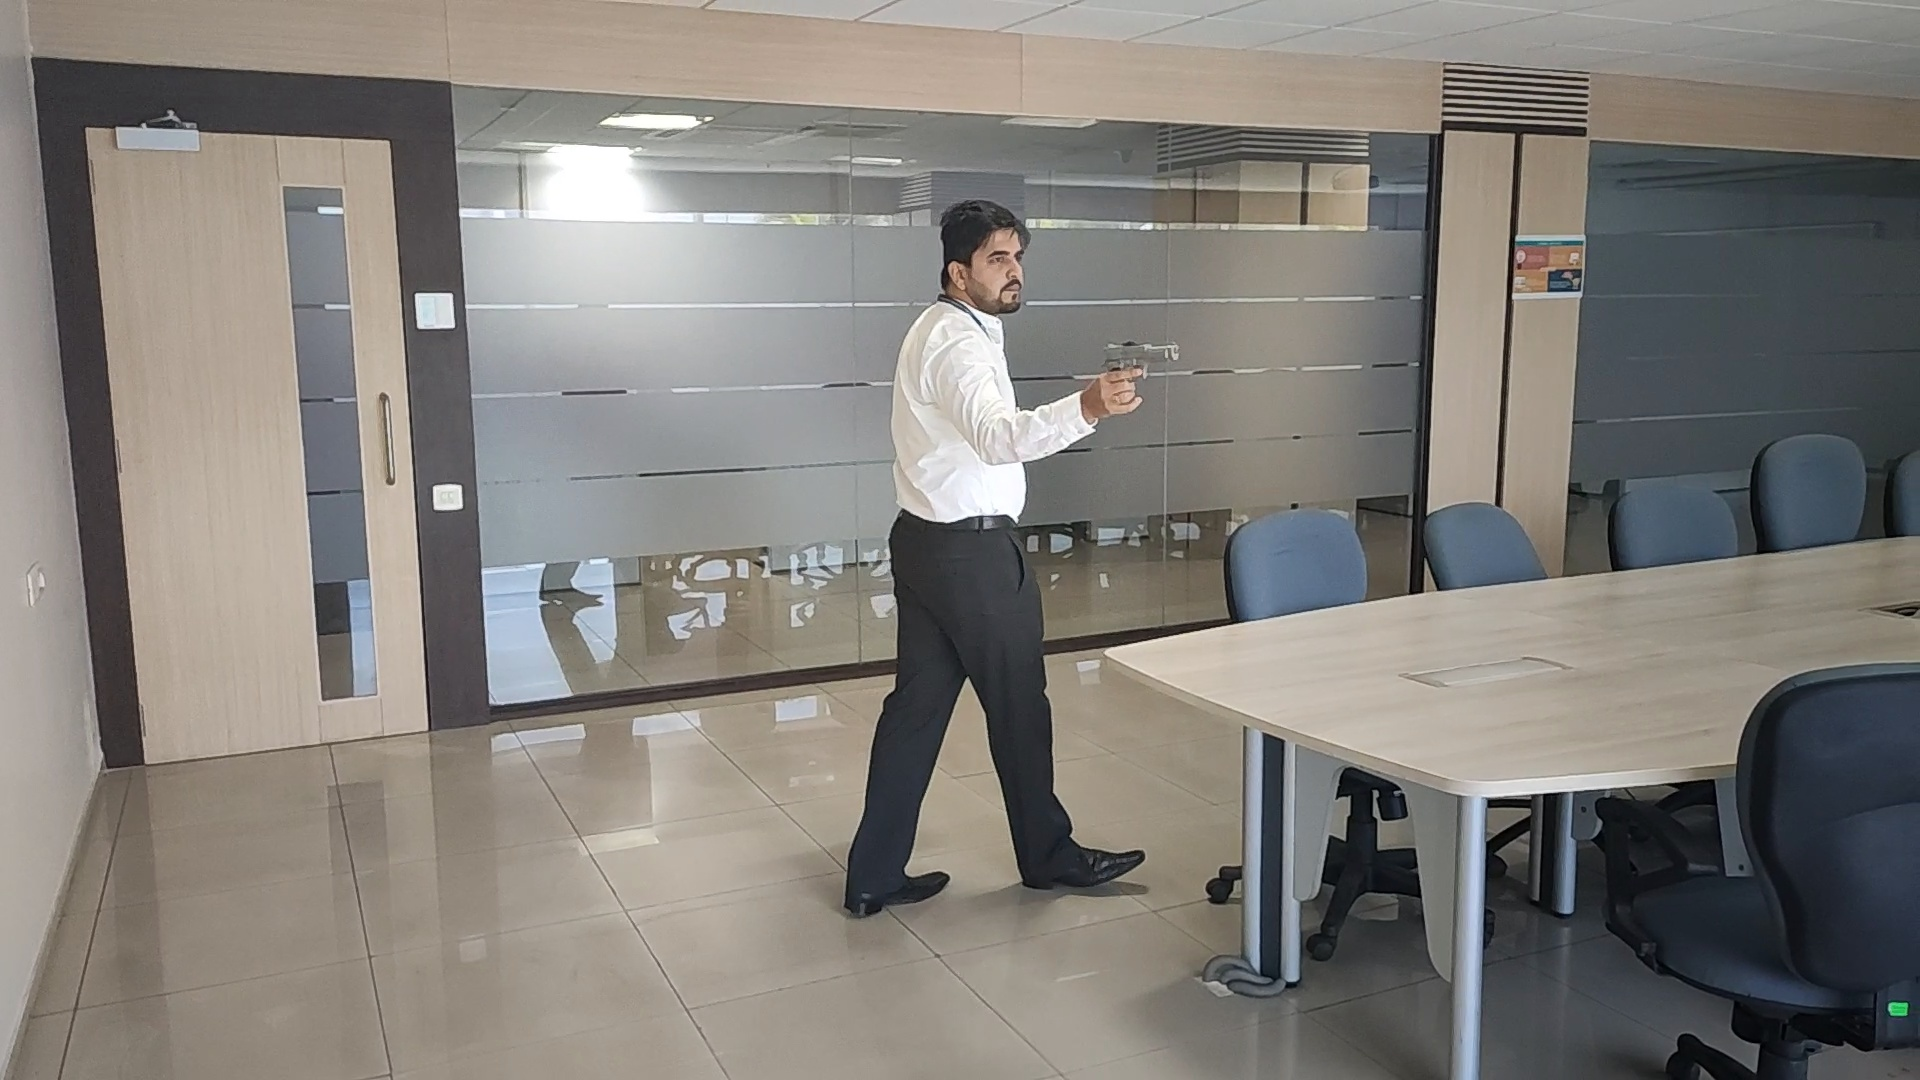gun: (1098, 335, 1184, 382)
